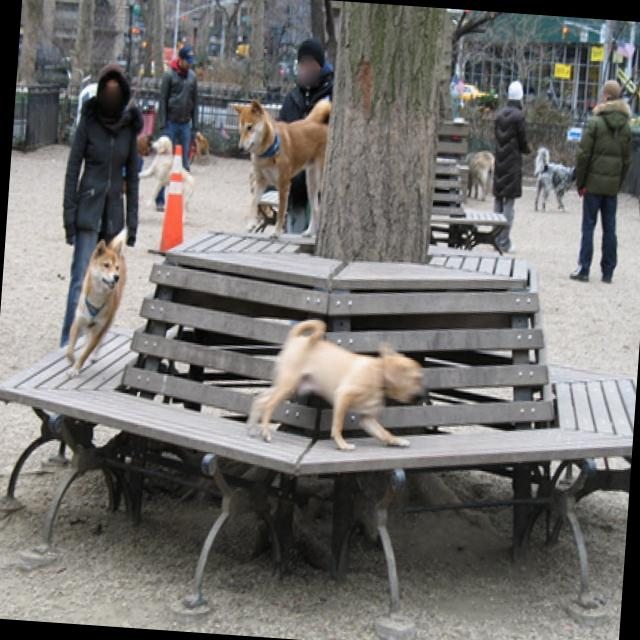Vehicle: (457, 82, 491, 104)
